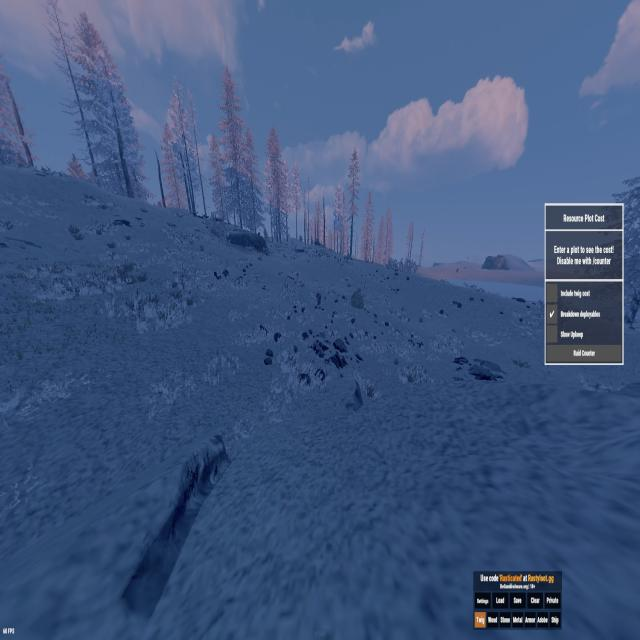Player: (316, 290, 322, 311)
